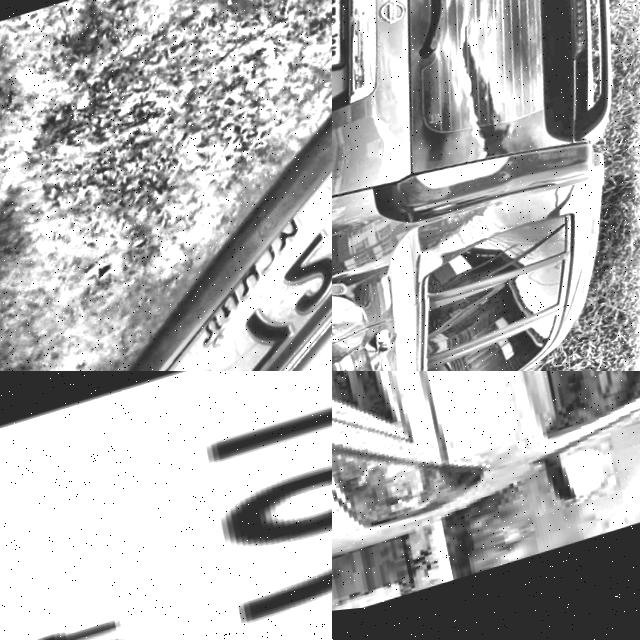license-plate: (0, 371, 332, 640), (0, 107, 332, 371), (332, 0, 365, 94)
